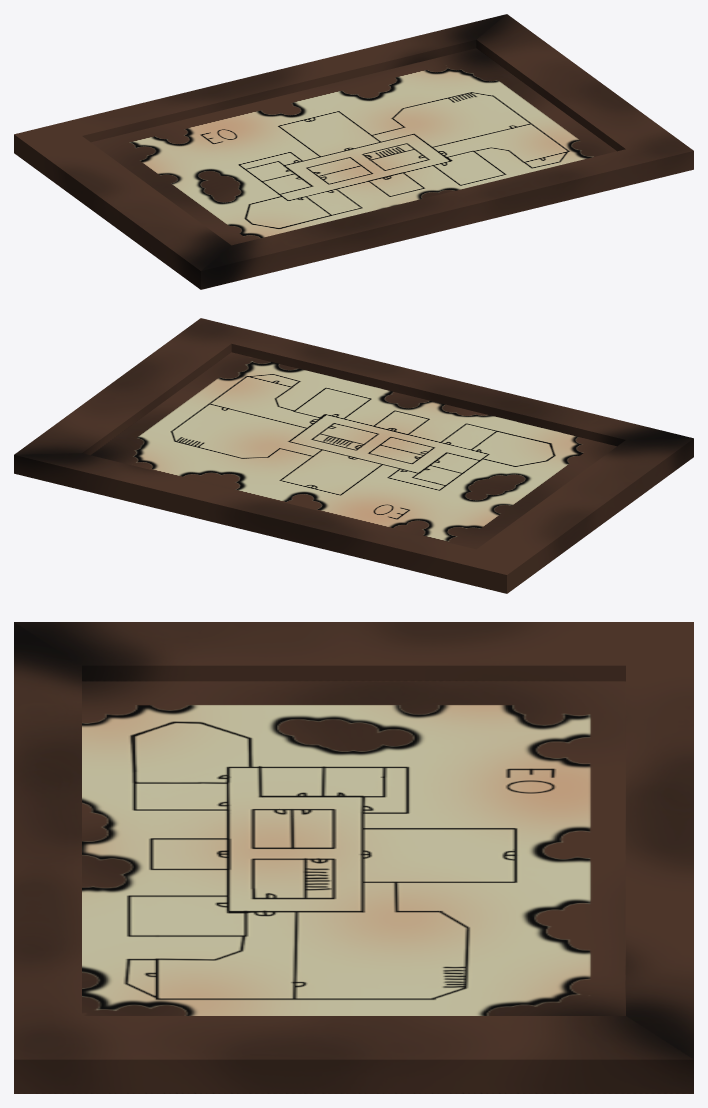
File: Leveldesign_Floorplan.fbx
3 views of the same model, one above another, from view 1: azimuth 30°, elevation 25°; view 2: azimuth 150°, elevation 25°; view 3: azimuth 270°, elevation 25° (orthographic). The views are drawn at different scales.
Visible parts, largest first — view 1: Cube; view 2: Cube; view 3: Cube.
Part boxes in pixels (<box>): Cube: <box>14,14,693,289</box>; Cube: <box>14,318,693,593</box>; Cube: <box>14,622,693,1093</box>.
Size of the model in its own units: 400 by 14.58 by 263.
Materials: 1 (1 with a texture image).
